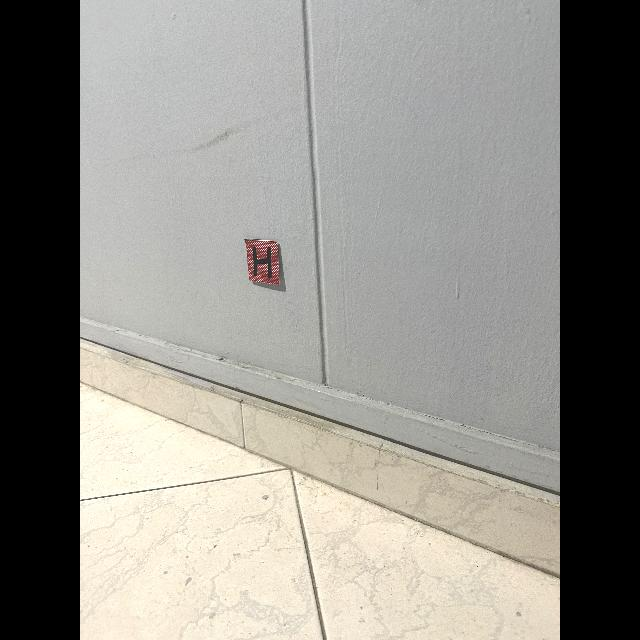H: (253, 247, 271, 278)
